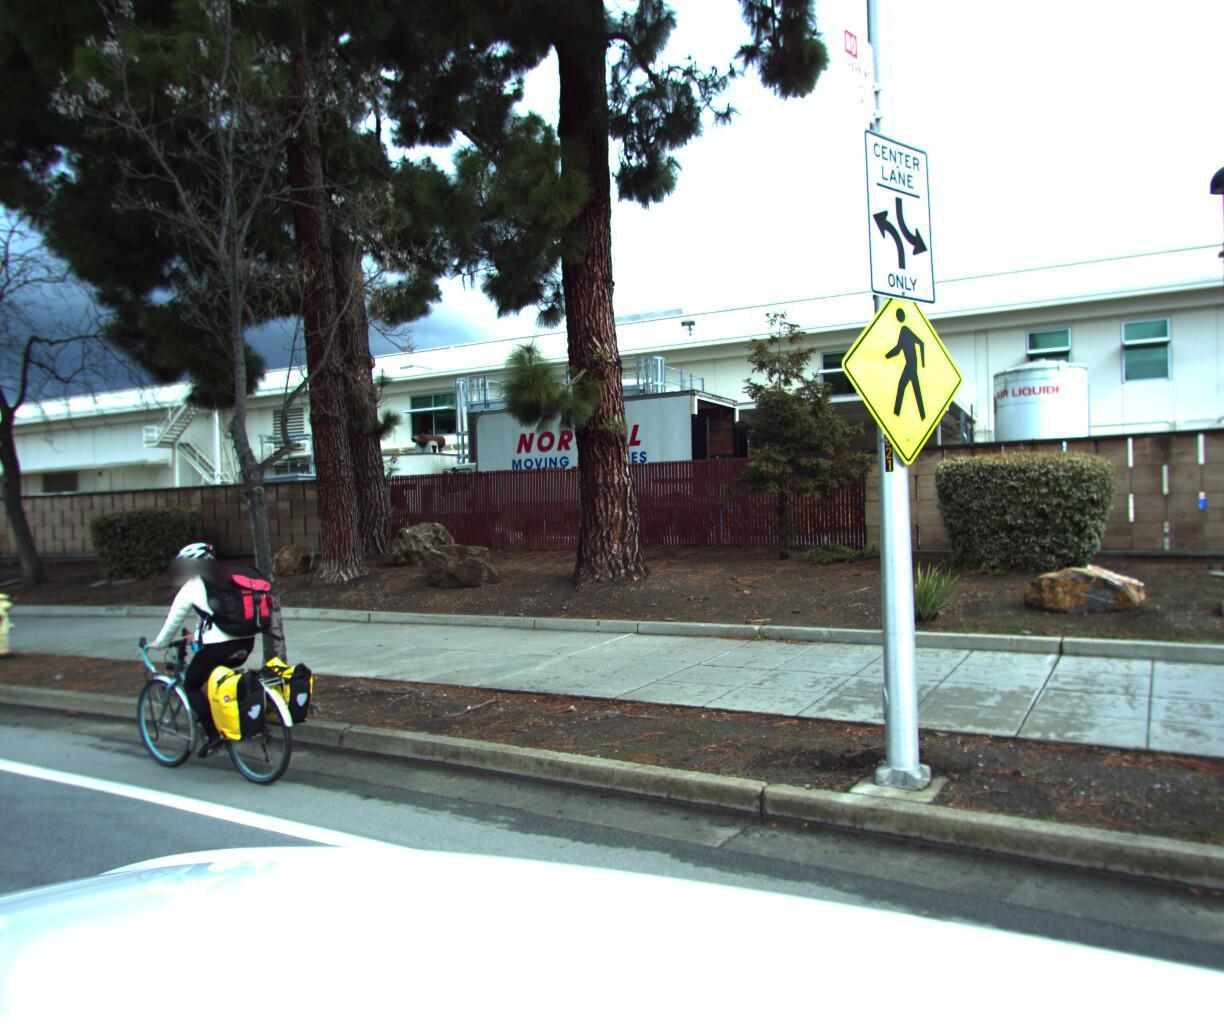bicycle: (56, 538, 347, 823)
truck: (424, 381, 762, 545)
